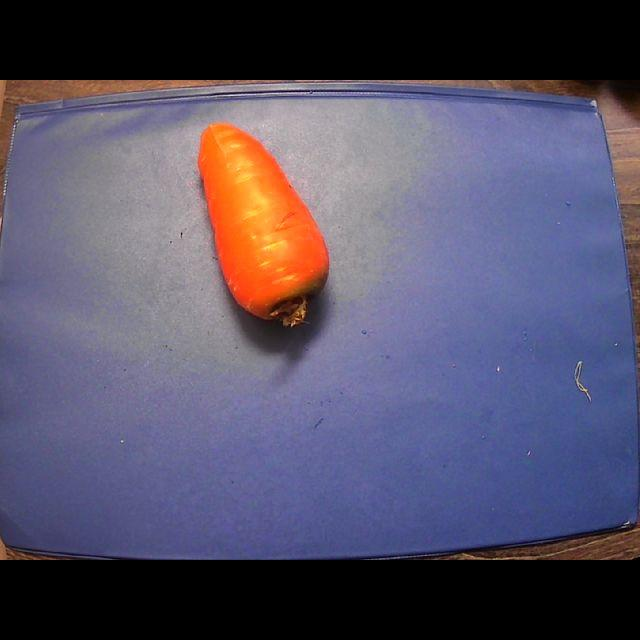zanahoria: (198, 122, 329, 326)
